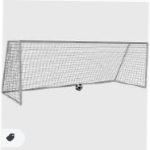goals: (1, 39, 150, 105)
